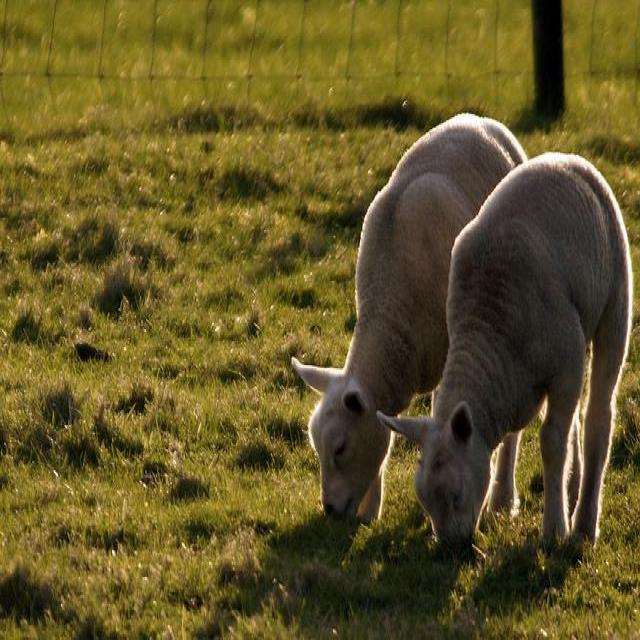Sheep: (375, 152, 631, 560), (294, 108, 527, 521)
